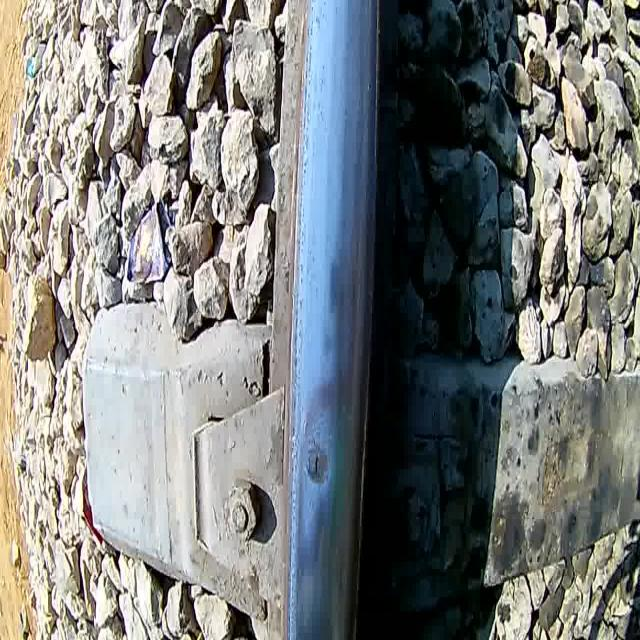Spallings: (313, 447, 320, 485)
Squats: (304, 429, 331, 493)
